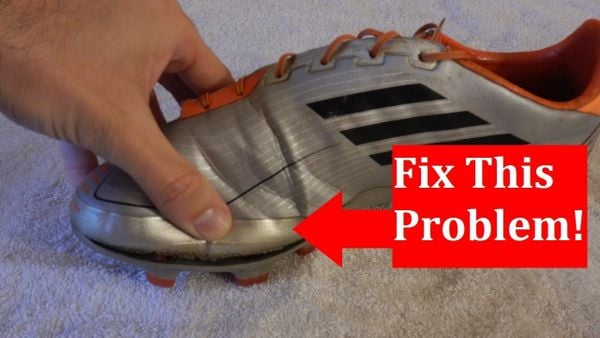bonding: (88, 232, 318, 270)
